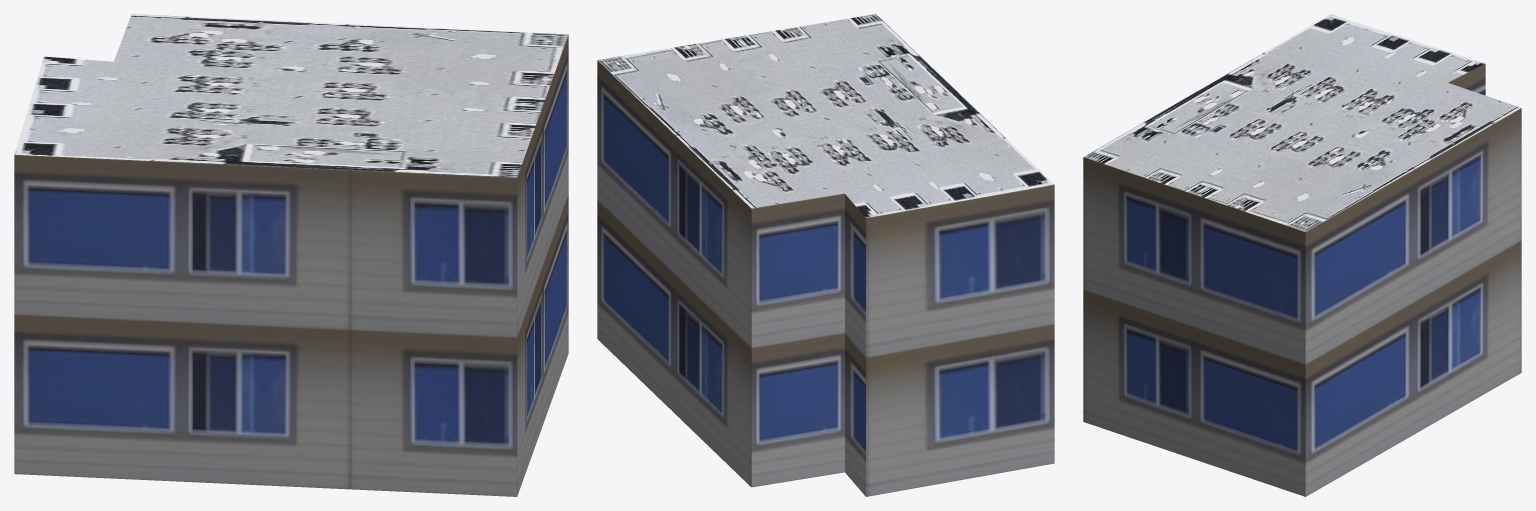
File: ResTex__319.fbx
3 renders of one model, left to right at view 1: azimuth 30°, elevation 25°; view 2: azimuth 150°, elevation 25°; view 3: azimuth 270°, elevation 25°, orthographic. The views are drawn at different scales.
Parts seen in each view (by area): view 1: CityEngineMaterial_23_m, CityEngineMaterial_m; view 2: CityEngineMaterial_23_m, CityEngineMaterial_m; view 3: CityEngineMaterial_23_m, CityEngineMaterial_m.
Boxes of the visible parts, x1,y1,x2,y2 form: CityEngineMaterial_23_m: (14, 35, 568, 496); CityEngineMaterial_m: (14, 14, 568, 177); CityEngineMaterial_23_m: (597, 60, 1054, 496); CityEngineMaterial_m: (597, 14, 1054, 217); CityEngineMaterial_23_m: (1083, 64, 1521, 496); CityEngineMaterial_m: (1084, 14, 1520, 231).
Size of the model in its own units: 10.6 by 6 by 8.99.
2 materials, 2 textured.
